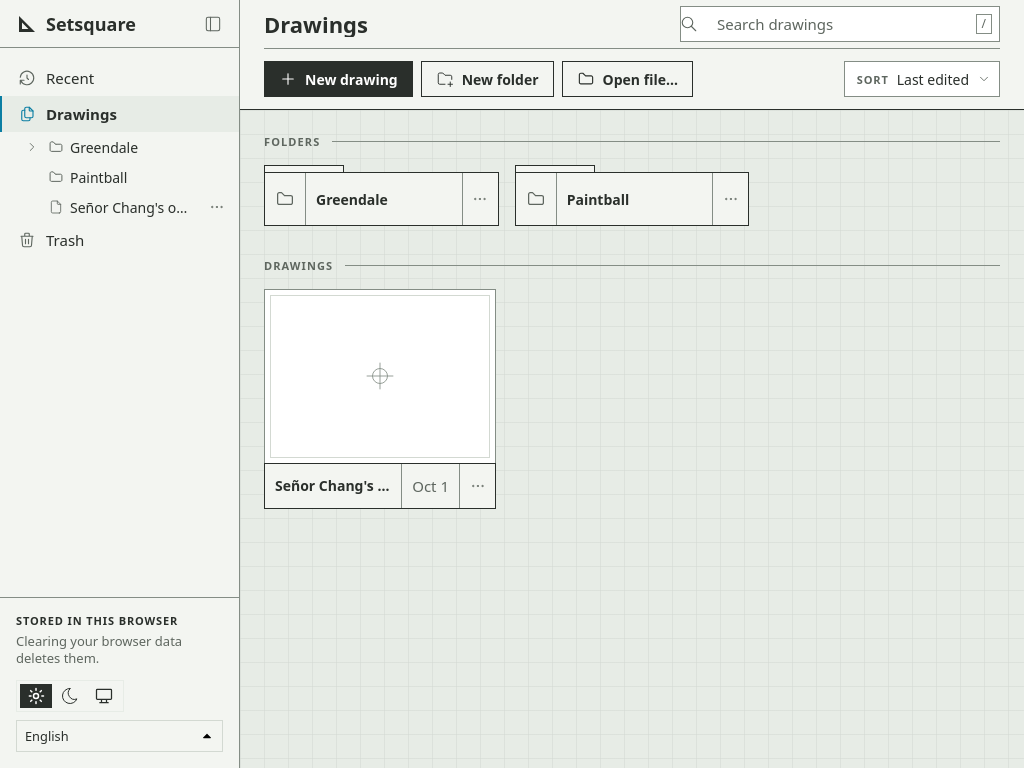
Test: Move to… › leaves the item where it was when cancelled
The image size is (1024, 768).
Click the button named "Actions for Señor Chang's office" next to "Oct 1". click: coordinates (477, 486)
box: x1=459 y1=464 x2=495 y2=508
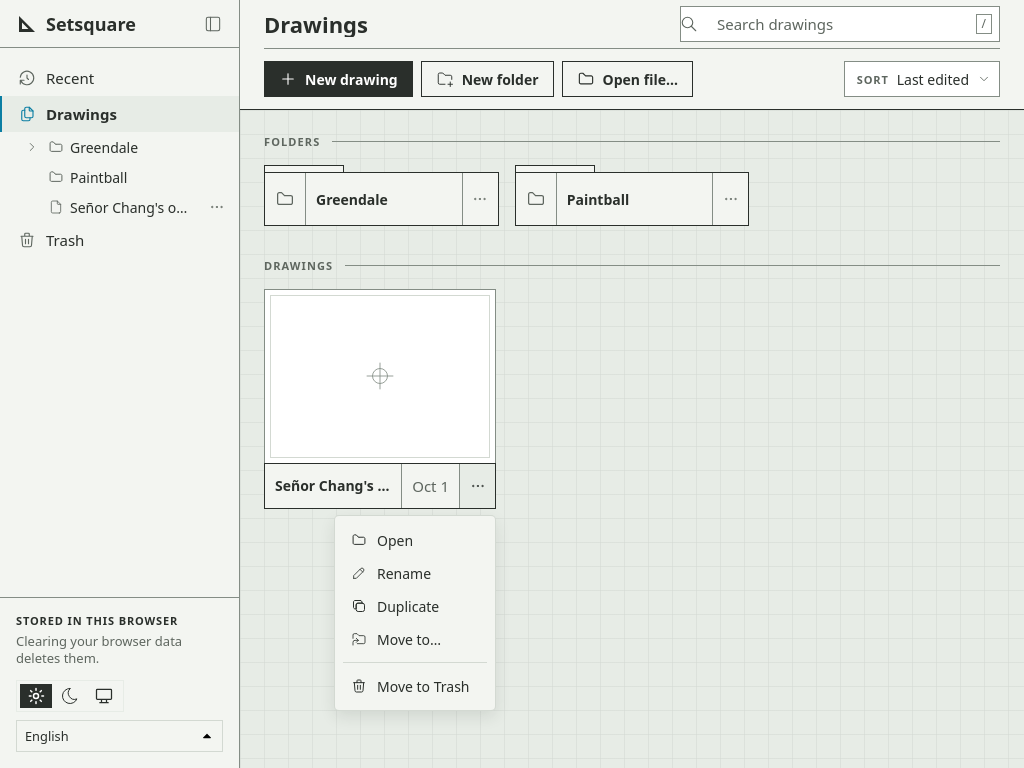
Click the menu item "Move to…". click: coordinates (415, 639)
box: x1=343 y1=623 x2=487 y2=655
(page scrolled)
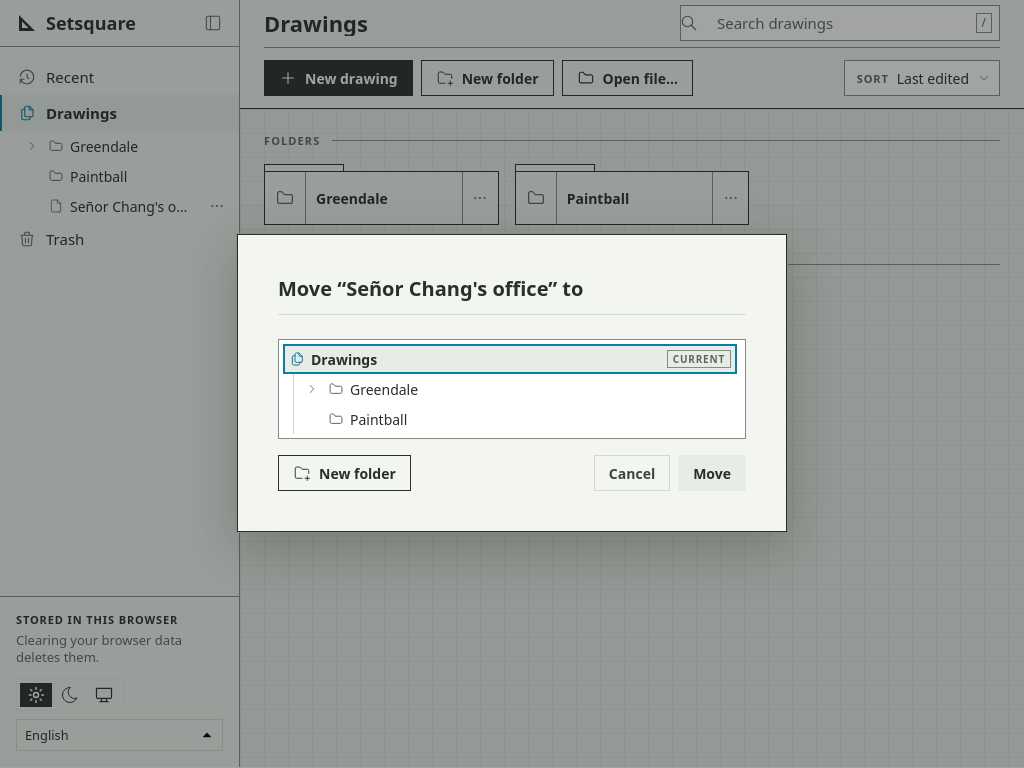
Click the 1st radio button labelled "Paintball". click: coordinates (368, 419)
box: x1=328 y1=410 x2=407 y2=428
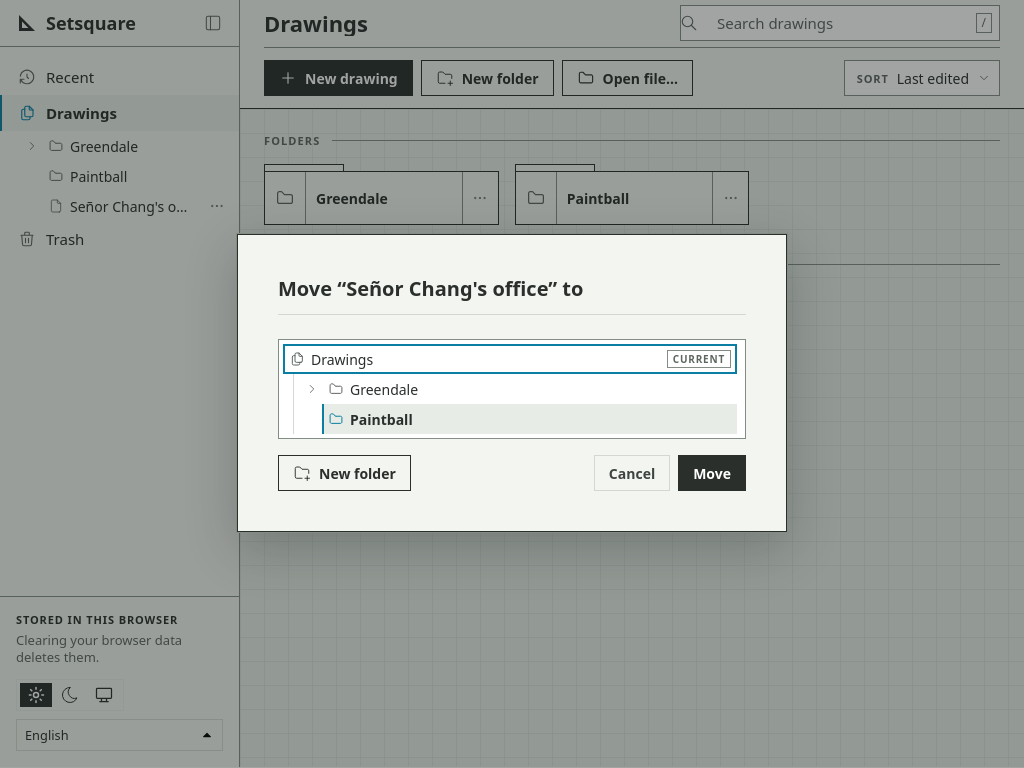
Click the button "Cancel". click: coordinates (632, 473)
box: x1=594 y1=455 x2=670 y2=491
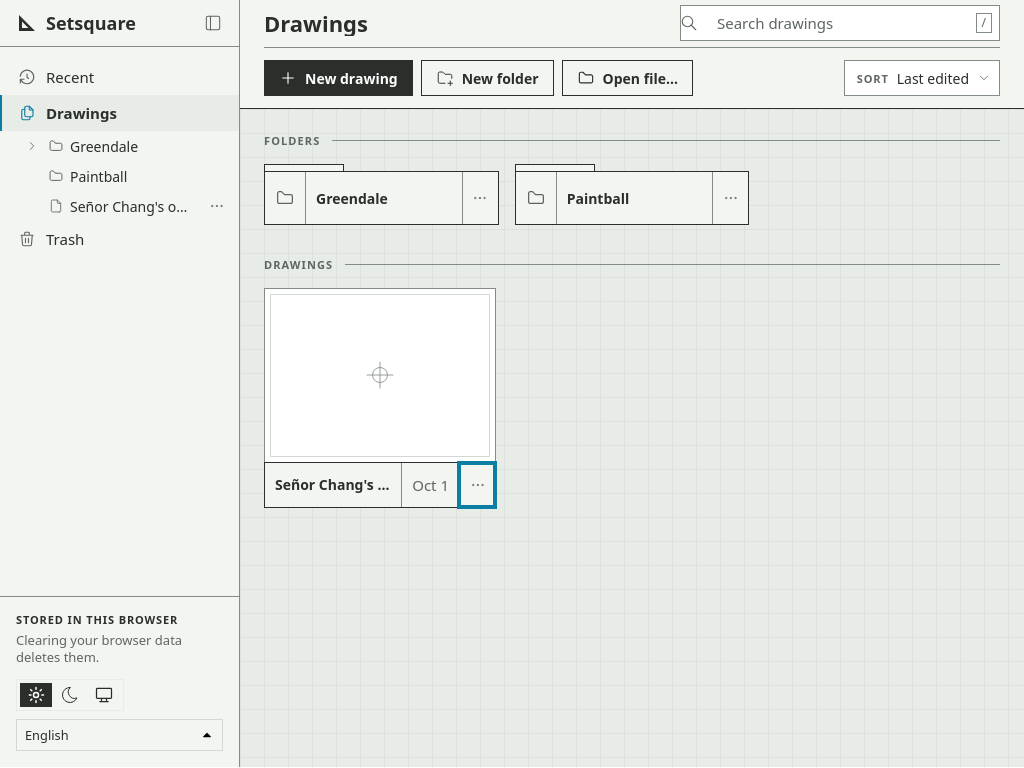
Expected: the link "Señor Chang's office" next to "Oct 1" is shown, x1=275 y1=475 x2=391 y2=494
Now the dialog is gone
